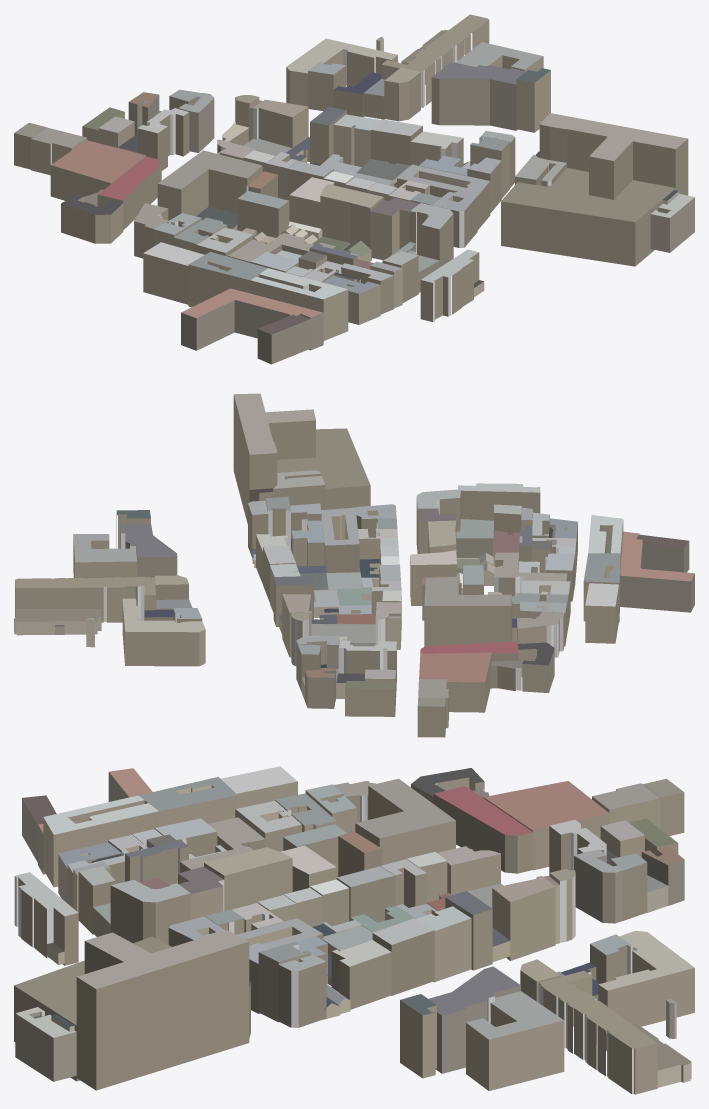
The picture shows the model from 3 angles, top to bottom: view 1: azimuth 30°, elevation 25°; view 2: azimuth 150°, elevation 25°; view 3: azimuth 270°, elevation 25°; orthographic projection. The views are drawn at different scales.
Visible parts, largest first — view 1: tuile; view 2: tuile; view 3: tuile.
Boxes of the visible parts, box(x1,y1,x2,y2) form: tuile: box(14, 14, 694, 364); tuile: box(14, 393, 694, 737); tuile: box(14, 766, 694, 1094).
Size of the model in its own units: 287 by 52.57 by 265.
